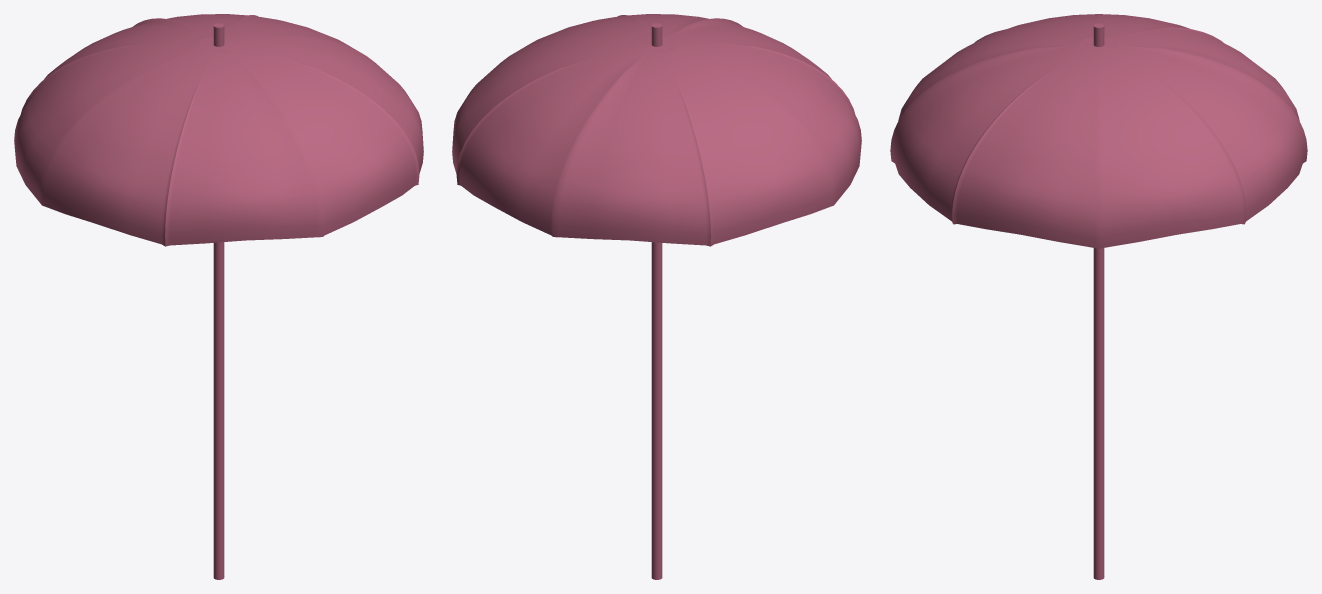
File: Beach_Ombrella.fbx
3 renders of one model, left to right at view 1: azimuth 30°, elevation 25°; view 2: azimuth 150°, elevation 25°; view 3: azimuth 270°, elevation 25°, orthographic.
Visible parts, largest first — view 1: Beach_Ombrella; view 2: Beach_Ombrella; view 3: Beach_Ombrella.
Boxes of the visible parts, x1,y1,x2,y2 form: Beach_Ombrella: [14, 14, 423, 579]; Beach_Ombrella: [452, 14, 861, 579]; Beach_Ombrella: [890, 14, 1307, 579].
Bounding box in the file's own units: 1114 × 1653 × 1132.
